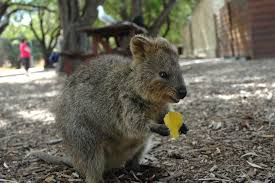quokka: (21, 28, 196, 183)
